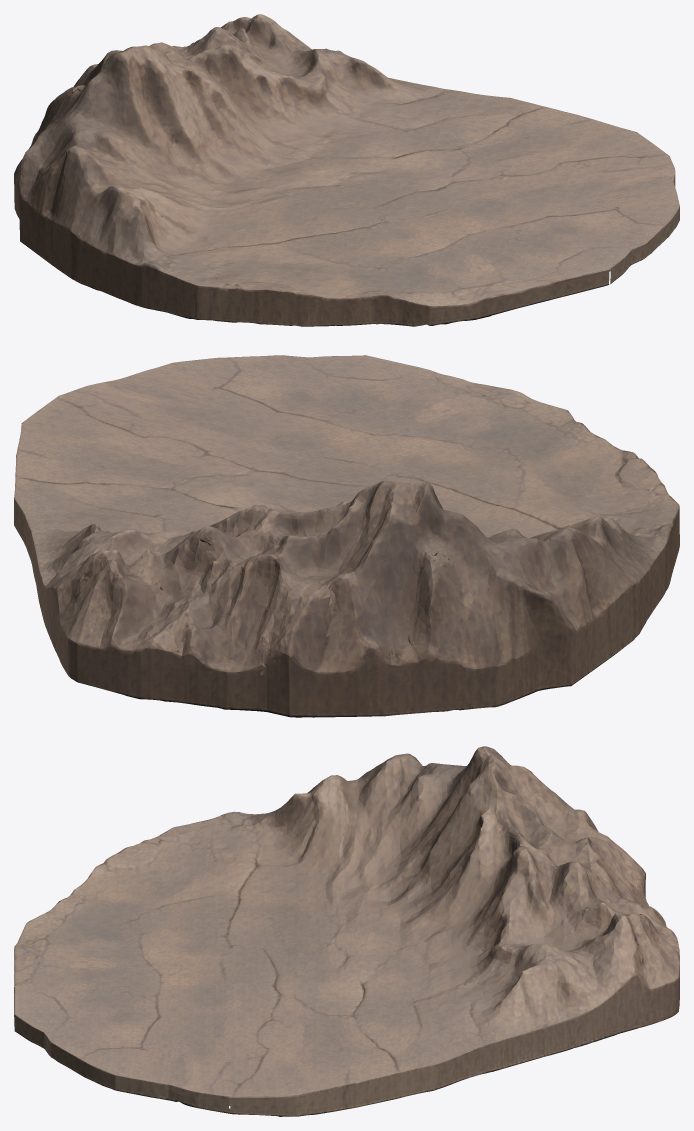
The picture shows the model from 3 angles, top to bottom: view 1: azimuth 30°, elevation 25°; view 2: azimuth 150°, elevation 25°; view 3: azimuth 270°, elevation 25°; orthographic projection. The views are drawn at different scales.
Parts seen in each view (by area): view 1: world; view 2: world; view 3: world.
Boxes of the visible parts, <box> form: world: <box>14,14,679,326</box>; world: <box>14,355,679,717</box>; world: <box>14,746,679,1116</box>.
Size of the model in its own units: 26 by 7.01 by 26.
1 material, 1 textured.
